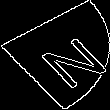N_NW: (12, 23, 98, 87)
